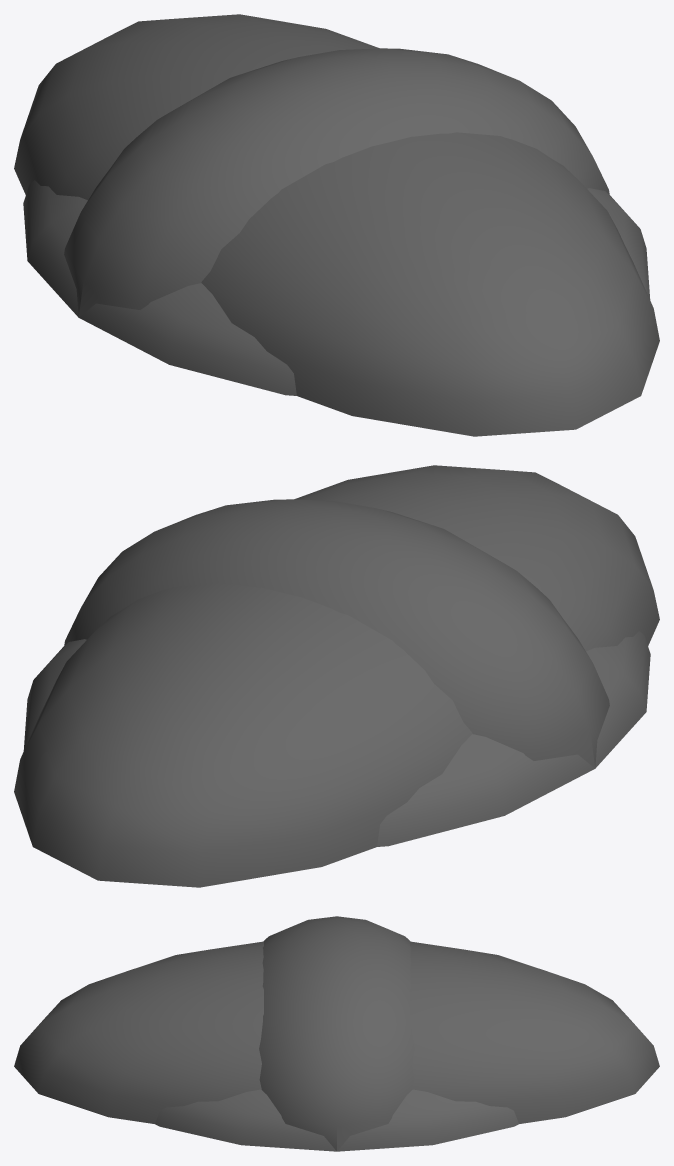
The model's file is rocks.fbx.
3 views of the same model, one above another, from view 1: azimuth 30°, elevation 25°; view 2: azimuth 150°, elevation 25°; view 3: azimuth 270°, elevation 25° (orthographic). The views are drawn at different scales.
Parts seen in each view (by area): view 1: rock1, rock2, rock3; view 2: rock1, rock2, rock3; view 3: rock1, rock2, rock3.
Boxes of the visible parts, <box> form: rock1: <box>14,14,659,436</box>; rock2: <box>64,48,609,317</box>; rock3: <box>23,180,650,395</box>; rock1: <box>14,465,659,887</box>; rock2: <box>64,499,609,768</box>; rock3: <box>23,631,650,846</box>; rock1: <box>14,941,659,1123</box>; rock2: <box>259,916,414,1151</box>; rock3: <box>155,1089,518,1151</box>.
Bounding box in the file's own units: 29.2 × 9.89 × 46.79.
Materials: 1 (1 with a texture image).
